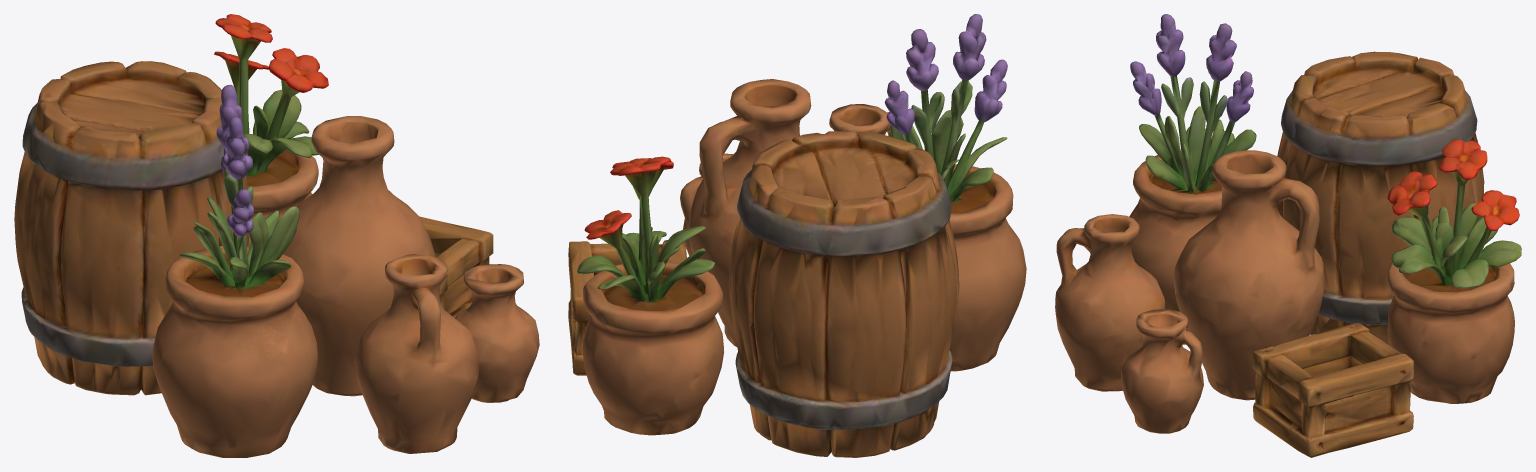
File: props.glb
3 views of the same model, side by side, from view 1: azimuth 30°, elevation 25°; view 2: azimuth 150°, elevation 25°; view 3: azimuth 270°, elevation 25° (orthographic). The views are drawn at different scales.
Parts seen in each view (by area): view 1: tripo_node_45f5344d-45b9-412f-96b6-dfd855abb9e0; view 2: tripo_node_45f5344d-45b9-412f-96b6-dfd855abb9e0; view 3: tripo_node_45f5344d-45b9-412f-96b6-dfd855abb9e0.
Boxes of the visible parts, box(x1,y1,x2,y2) form: tripo_node_45f5344d-45b9-412f-96b6-dfd855abb9e0: box(14, 14, 539, 457); tripo_node_45f5344d-45b9-412f-96b6-dfd855abb9e0: box(568, 14, 1026, 457); tripo_node_45f5344d-45b9-412f-96b6-dfd855abb9e0: box(1055, 14, 1521, 457).
Size of the model in its own units: 0.9306 by 0.7078 by 0.9993.
1 material, 1 textured.
